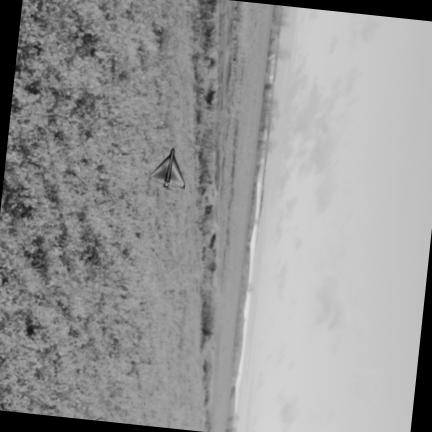Shahed: (148, 149, 184, 189)
